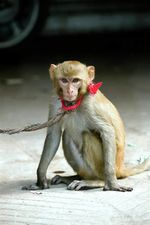monkey: (20, 35, 138, 191)
